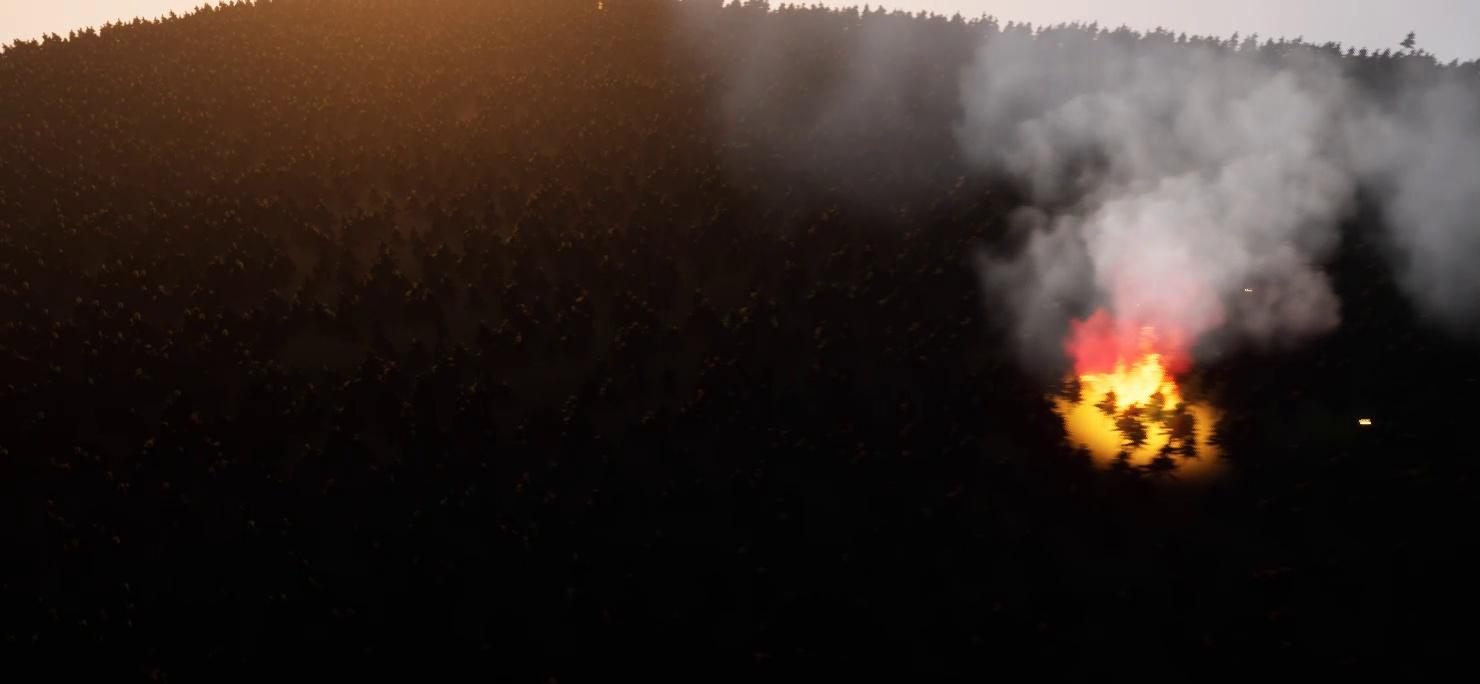fire: (1074, 350, 1190, 437)
smoke: (649, 0, 1479, 378)
